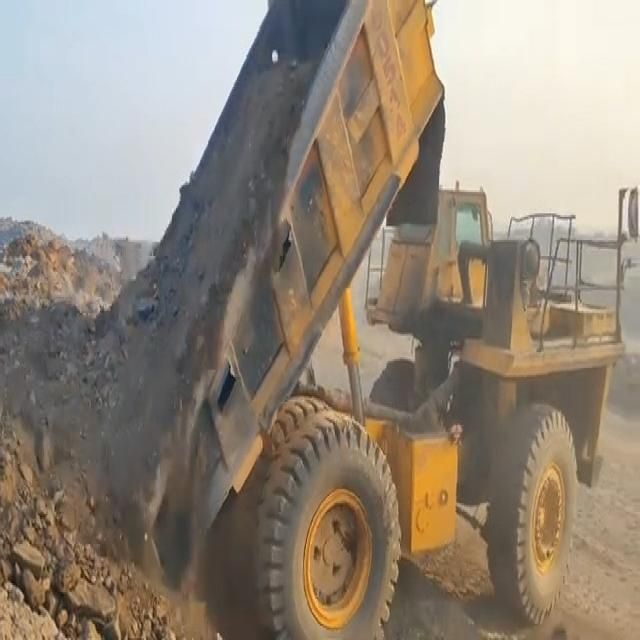dump_truck: (128, 0, 634, 640)
